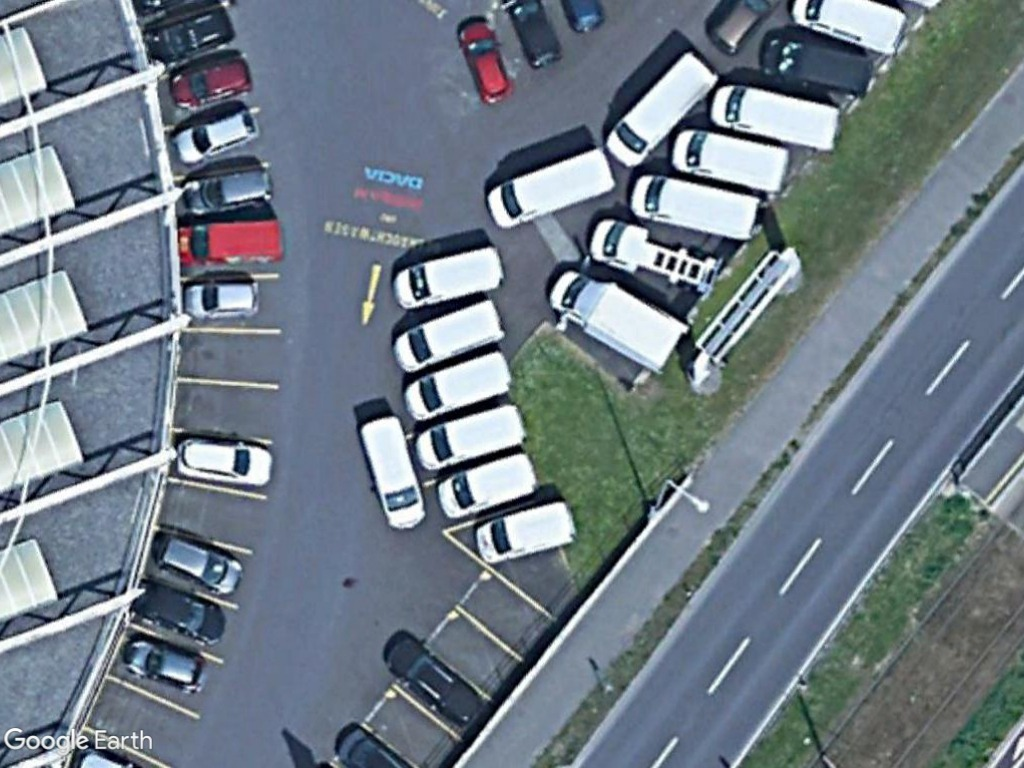car: (134, 576, 229, 644), (171, 435, 277, 492), (174, 104, 264, 168), (146, 3, 237, 66), (156, 534, 244, 599), (167, 50, 256, 113), (180, 164, 276, 222), (457, 19, 518, 106), (120, 636, 208, 696), (182, 277, 266, 322)
truck: (548, 266, 689, 376)
van: (600, 48, 724, 169), (481, 146, 616, 229), (386, 294, 510, 377), (628, 171, 766, 245), (710, 83, 842, 155), (664, 123, 791, 197), (399, 349, 516, 425), (391, 240, 508, 312), (757, 31, 877, 101), (356, 415, 428, 531), (430, 449, 536, 522), (415, 400, 525, 468), (471, 499, 576, 568), (175, 215, 288, 269)
